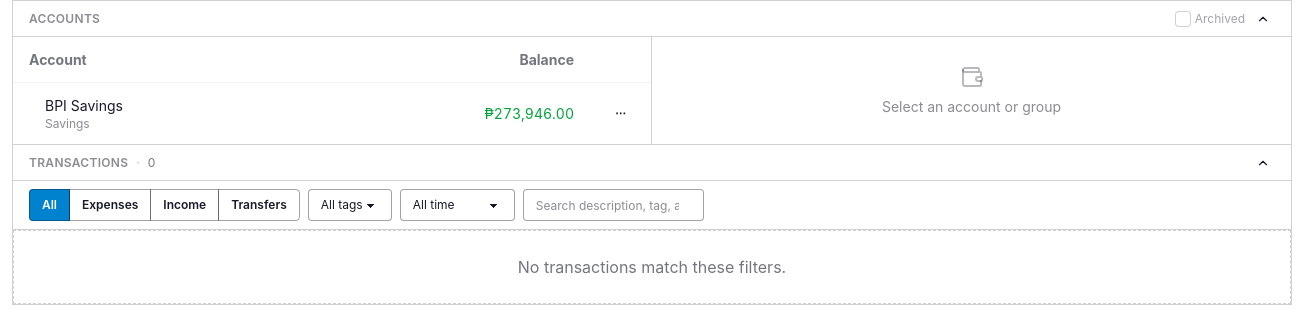
Scenario: AccountsPanel › folds transactions section to a strip when chevron clicked
This screenshot has width=1304, height=322.
Click the button named "fold transactions": (1263, 162) [1251,150,1275,174]
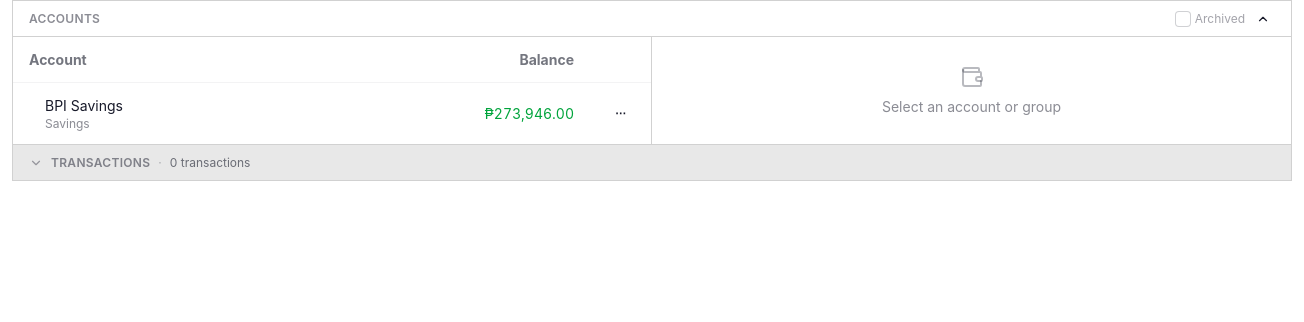
expect the text "0 transactions" is shown: met, box [170,154,250,170]
